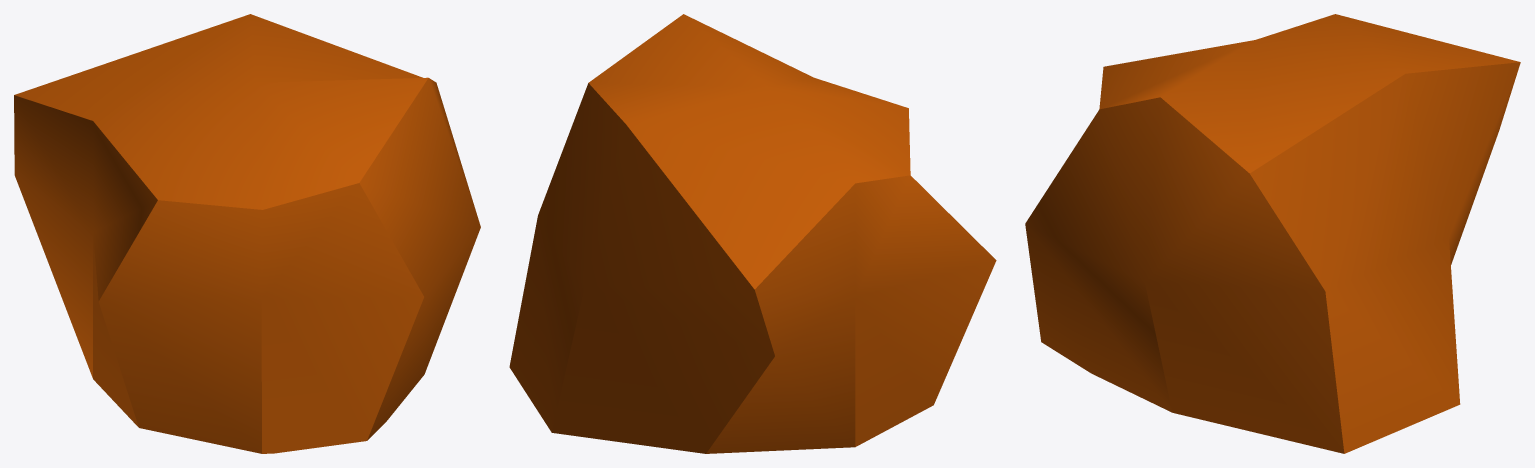
The model's file is small_rock_01.fbx.
3 views of the same model, side by side, from view 1: azimuth 30°, elevation 25°; view 2: azimuth 150°, elevation 25°; view 3: azimuth 270°, elevation 25° (orthographic). The views are drawn at different scales.
Parts seen in each view (by area): view 1: small_rock01; view 2: small_rock01; view 3: small_rock01.
Part boxes in pixels (<box>): small_rock01: <box>14,14,480,453</box>; small_rock01: <box>509,14,996,453</box>; small_rock01: <box>1025,14,1520,453</box>.
Size of the model in its own units: 1.42 by 1.02 by 1.46.
